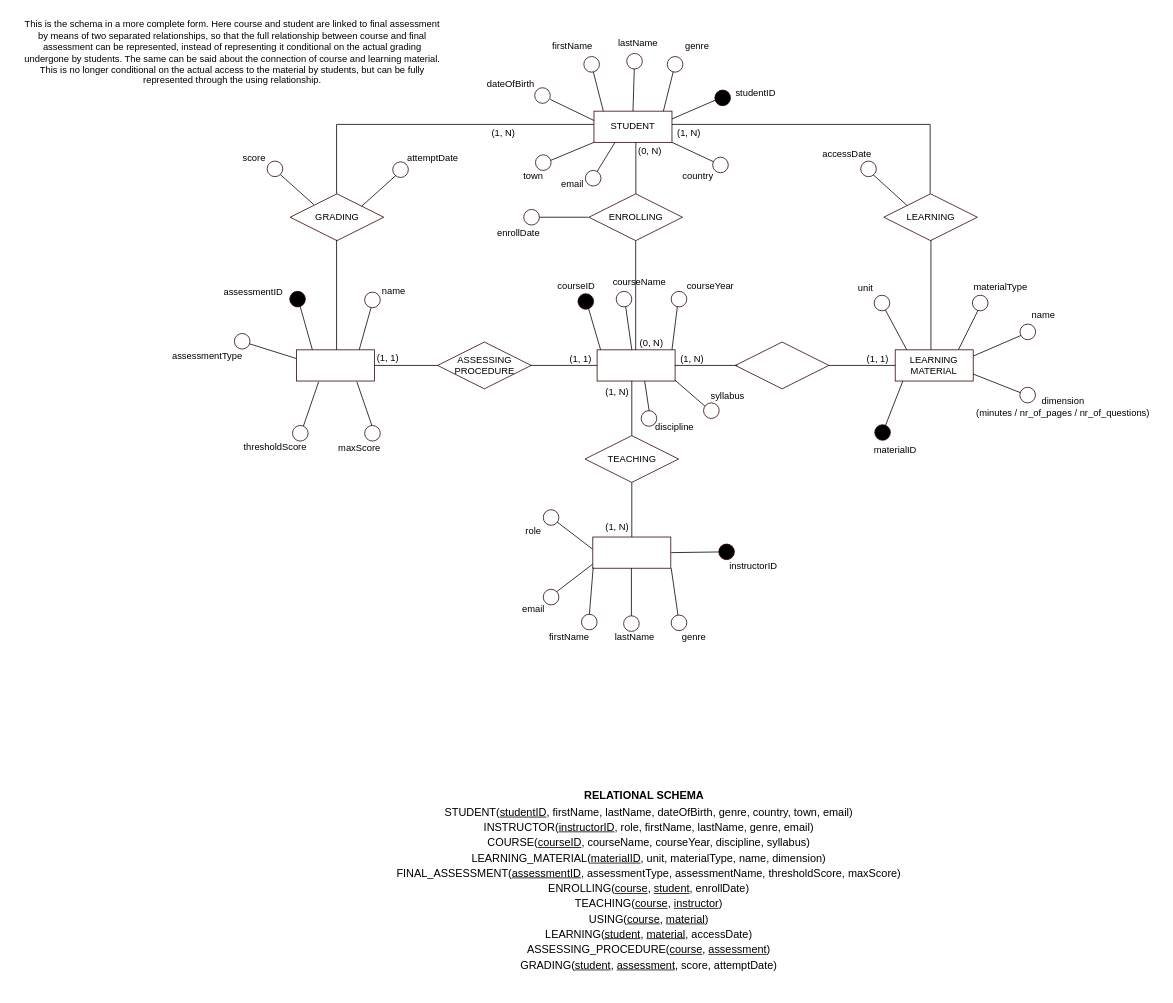
Image size: 1173x1003. Some labels were removed from this diagram. Here are the shapes that lost their labels. From the top down, the centre of each, then its label:
At (x=335, y=365): "FINAL ASSESSMENT".
At (x=635, y=365): "COURSE".
At (x=782, y=365): "USING".
At (x=631, y=552): "INSTRUCTOR".
